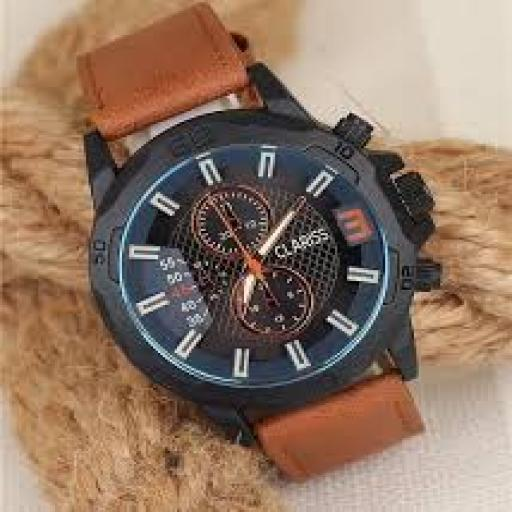KolSaati: (54, 8, 479, 492)
